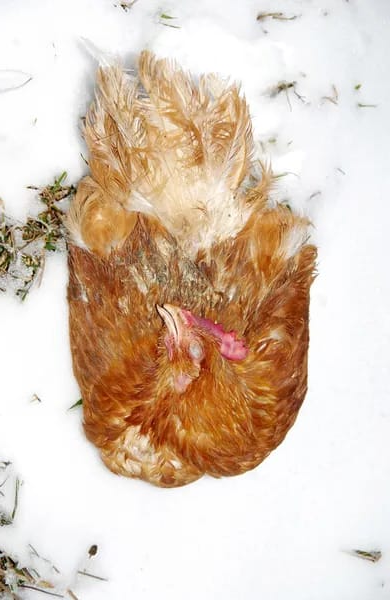Unhealthy: (45, 37, 315, 489)
